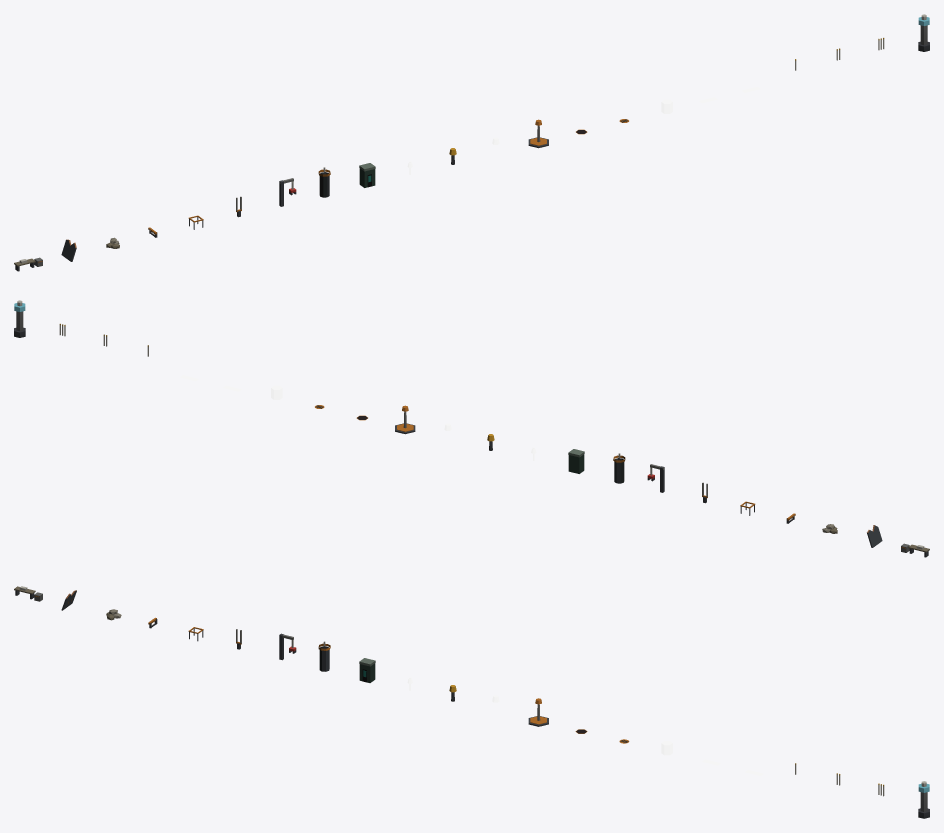
Rendered from kit-boss.glb.
3 views of the same model, one above another, from view 1: azimuth 30°, elevation 25°; view 2: azimuth 150°, elevation 25°; view 3: azimuth 330°, elevation 25° (orthographic).
Bounding box in the file's own units: 85.4 × 3.02 × 1.65.
